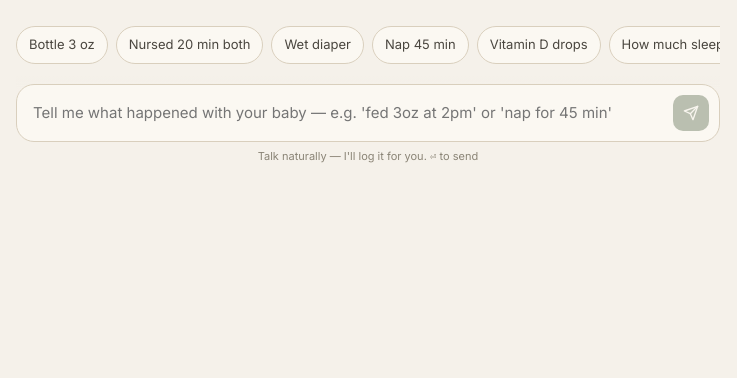
it: ChatScreen send recovery › retries a failed message with the same request ID and no duplicate bubble
Step 1. Type "Wet diaper" into the text box named "Message about your baby" → (349, 113), box 33,96 -> 665,130
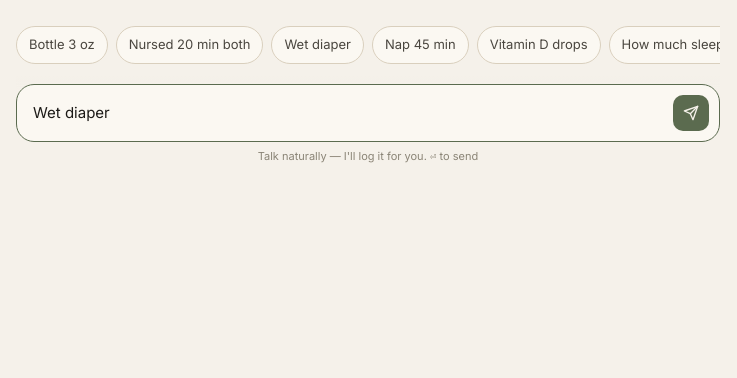
Step 2. Click the button named "Send message" → (691, 112), box 673,94 -> 709,130
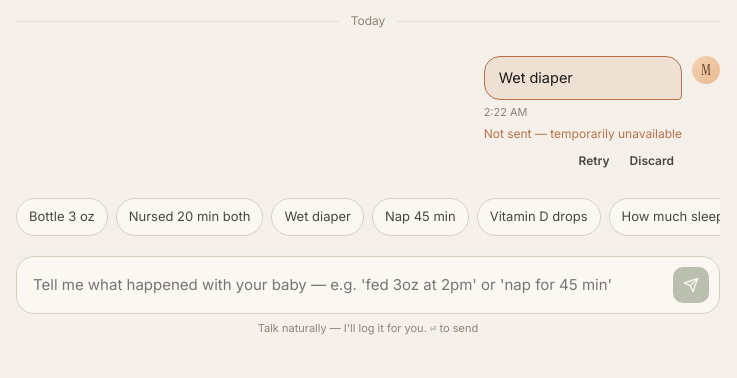
Now the message shows "Not sent — temporarily unavailable", box 484,125 -> 682,176
Now the text "Wet diaper" is shown once, box 484,56 -> 682,100
Step 3. Click the button "Retry" → (594, 161), box 571,146 -> 618,176
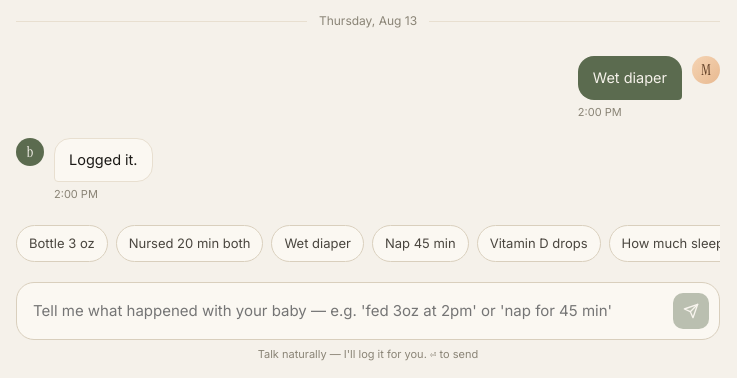
Now the text "Logged it." is shown, box 54,138 -> 152,182
Now the text "Not sent" is gone
Now the text "Wet diaper" is shown once, box 578,56 -> 682,100
